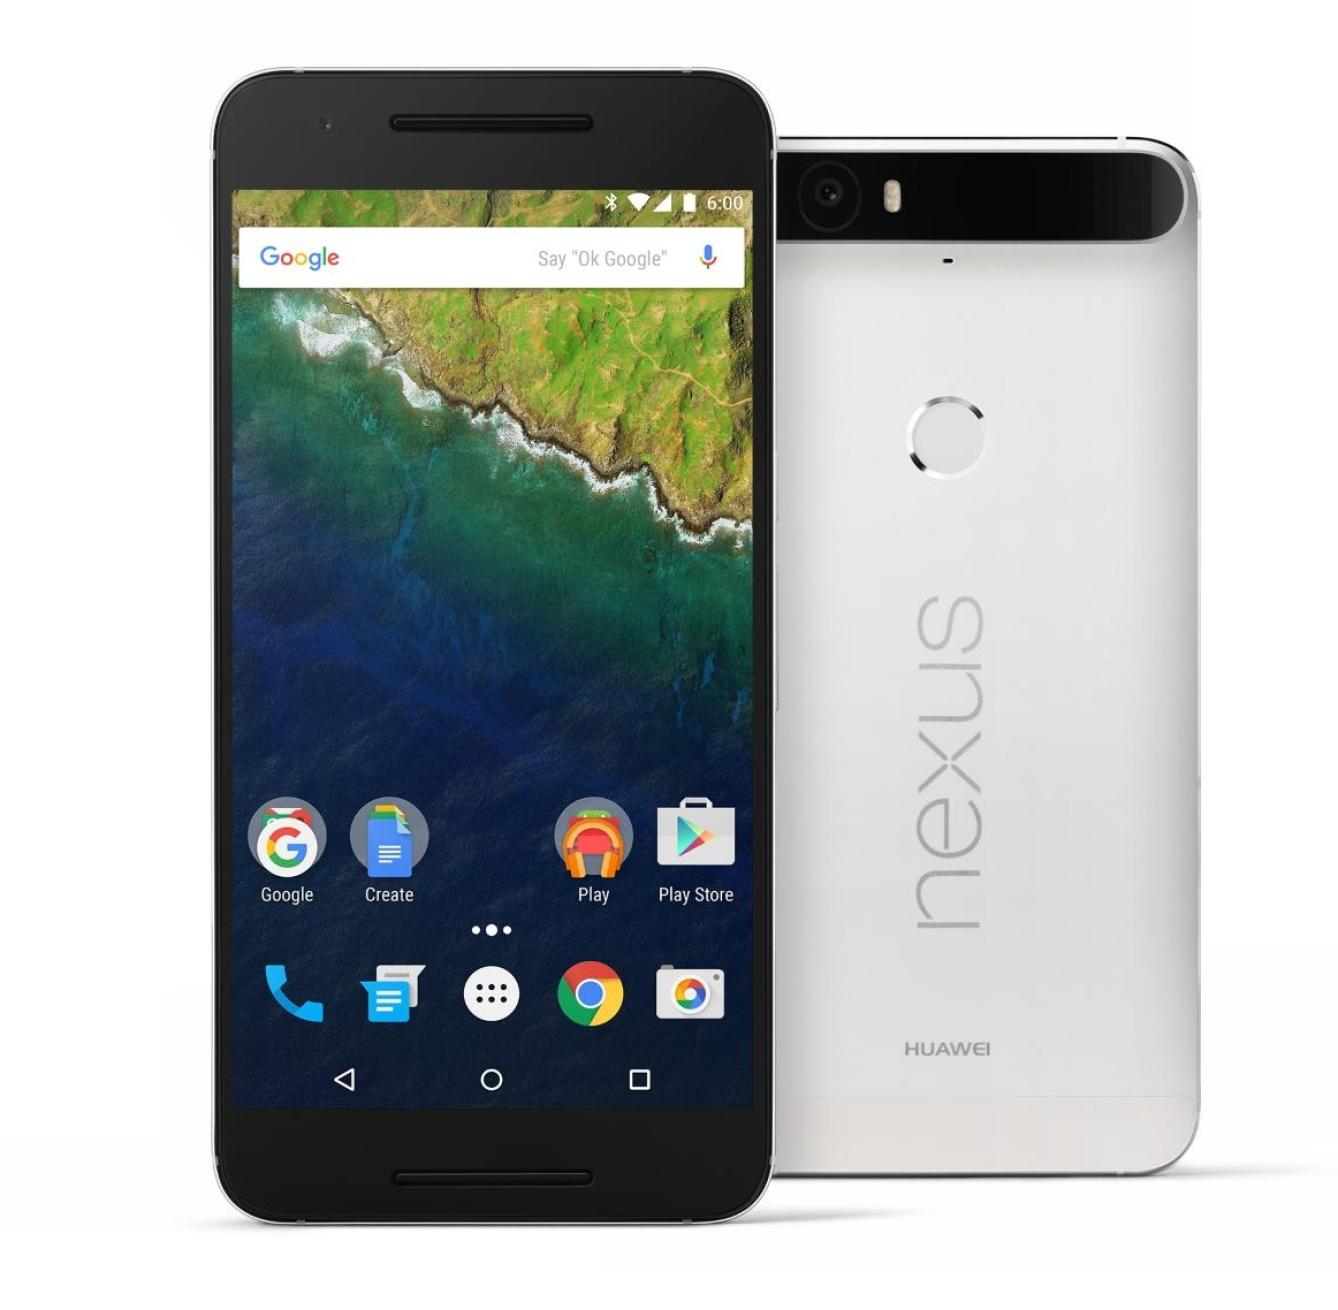smartphone: (212, 67, 774, 1222), (773, 137, 1199, 1174)
